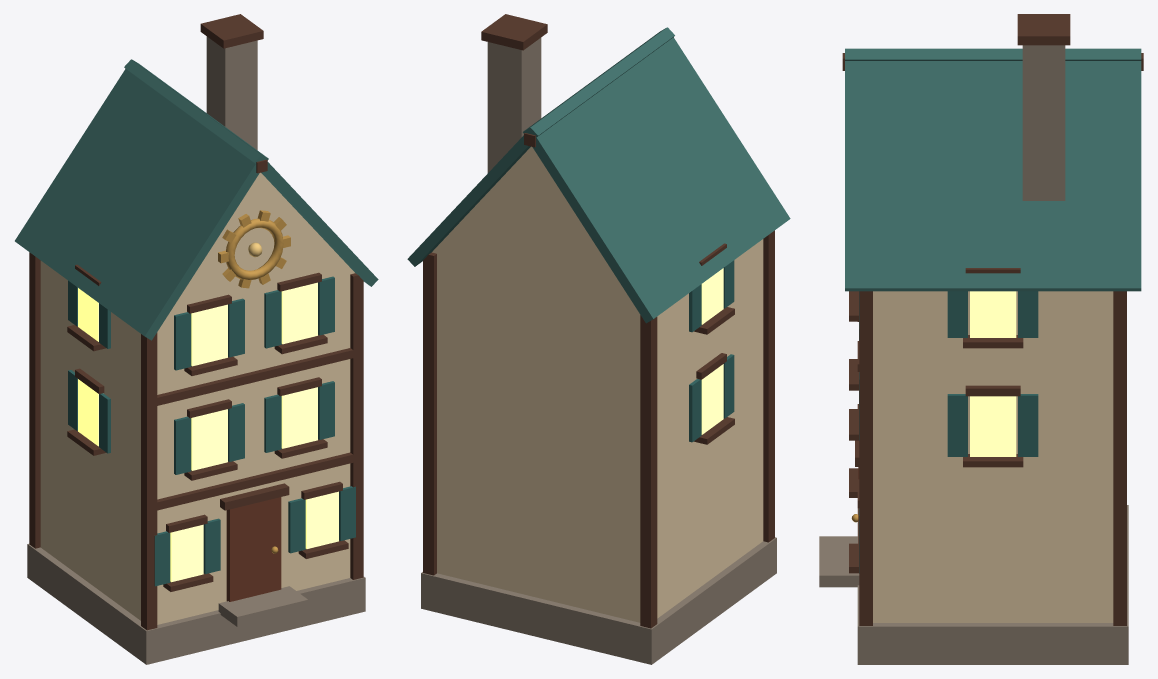
Rendered from townhouse-0.glb.
3 views of the same model, side by side, from view 1: azimuth 30°, elevation 25°; view 2: azimuth 150°, elevation 25°; view 3: azimuth 270°, elevation 25° (orthographic). The views are drawn at different scales.
Visible parts, largest first — view 1: townhouse-0; view 2: townhouse-0; view 3: townhouse-0.
Boxes of the visible parts, <box> form: townhouse-0: <box>15,14,378,664</box>; townhouse-0: <box>407,14,790,664</box>; townhouse-0: <box>819,14,1143,664</box>.
Size of the model in its own units: 3.63 by 7.96 by 3.82.
